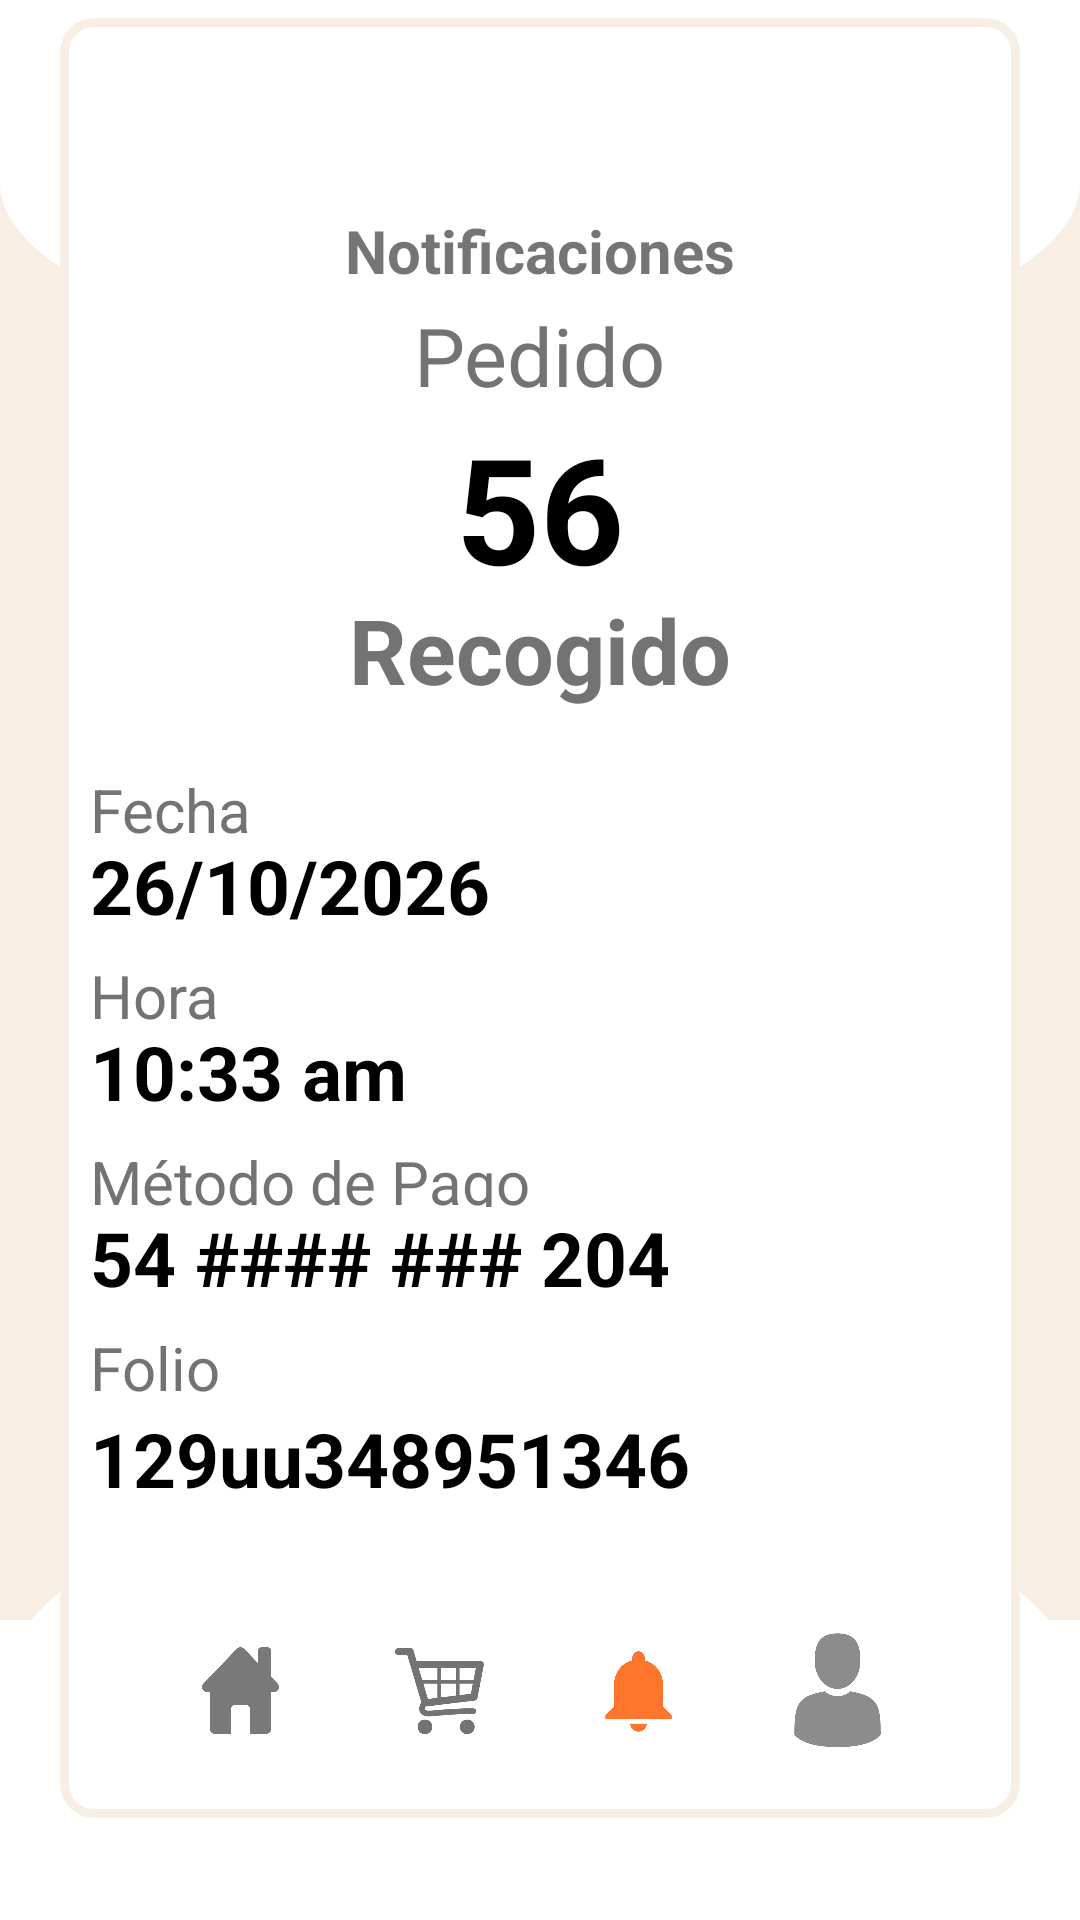

Icon bounding boxes for this 1080px×1920px phone screenshot, format (x1, y1, x2, y2):
home: (202, 1647, 279, 1734)
notifnaranja: (605, 1651, 672, 1732)
perfil: (794, 1633, 881, 1747)
